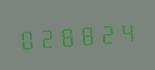eight: (78, 19, 97, 48), (58, 21, 77, 49)
four: (118, 17, 137, 45)
two: (37, 22, 56, 51), (98, 18, 117, 47)
zero: (17, 24, 36, 52)
